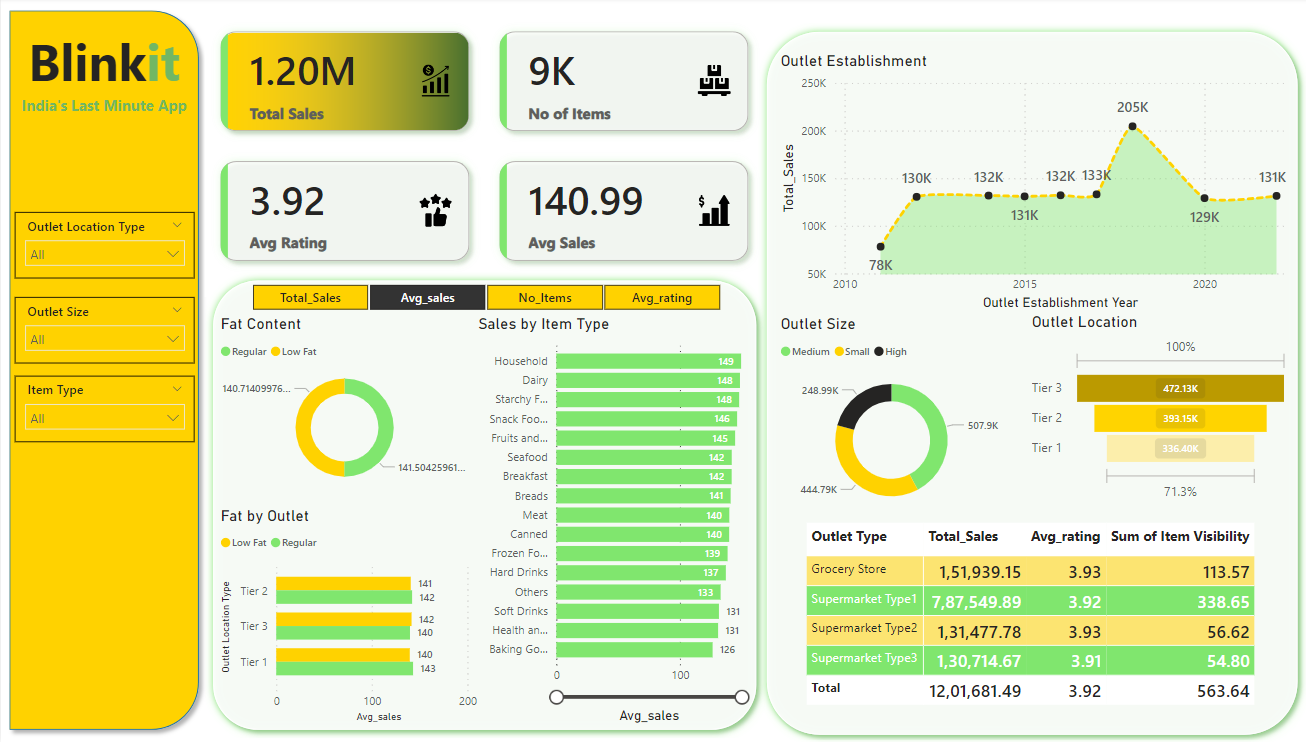

What the dashboard file says about the page in this screenshot:
{"tool":"powerbi","page":{"name":"Page 1","canvas":[1400,800],"ordinal":0},"visuals":[{"type":"shape","box":[0,5.4,221.2,789.5],"z":0},{"type":"textbox","box":[0,28.2,221.2,116.6],"z":1000},{"type":"cardVisual","fields":{"Data":["BlinkIT Grocery Data.Total_Sales","BlinkIT Grocery Data.No_Items","BlinkIT Grocery Data.Avg_rating","BlinkIT Grocery Data.Avg_sales"]},"box":[218.8,0,600.5,321.7],"z":2000},{"type":"shape","box":[218.8,294.9,600.5,500],"z":3000},{"type":"donutChart","title":"Fat Content","fields":{"Y":["BlinkIT Grocery Data.Avg_sales"],"Category":["BlinkIT Grocery Data.Item Fat Content"]},"box":[230.9,340.5,276.1,194.4],"z":4000},{"type":"slicer","fields":{"Values":["Metrics .Metrics "]},"box":[244.3,301.6,550.9,38.9],"z":5000},{"type":"clusteredBarChart","title":"Fat by Outlet","fields":{"Y":["BlinkIT Grocery Data.Avg_sales"],"Category":["BlinkIT Grocery Data.Outlet Location Type"],"Series":["BlinkIT Grocery Data.Item Fat Content"]},"box":[230.9,545.6,300.3,237.3],"z":6000},{"type":"barChart","title":"Sales by Item Type","fields":{"Y":["BlinkIT Grocery Data.Avg_sales"],"Category":["BlinkIT Grocery Data.Item Type"]},"box":[507,340.5,303,442.4],"z":7000},{"type":"shape","box":[812.3,28.2,587.1,772.1],"z":8000},{"type":"lineChart","title":"Outlet Establishment","fields":{"Category":["BlinkIT Grocery Data.Outlet Establishment Year"],"Y":["BlinkIT Grocery Data.Total_Sales"]},"box":[831.1,57.6,555,282.8],"z":9000},{"type":"pieChart","title":"Outlet Size","fields":{"Category":["BlinkIT Grocery Data.Outlet Size"],"Y":["BlinkIT Grocery Data.Total_Sales"]},"box":[831.1,340.5,248,221.2],"z":10000},{"type":"funnel","title":"Outlet Location","fields":{"Y":["Sum(BlinkIT Grocery Data.Sales)"],"Category":["BlinkIT Grocery Data.Outlet Location Type"]},"box":[1100.5,337.8,285.5,207.8],"z":11000},{"type":"pivotTable","fields":{"Rows":["BlinkIT Grocery Data.Outlet Type"],"Values":["BlinkIT Grocery Data.Total_Sales","BlinkIT Grocery Data.Avg_rating","Sum(BlinkIT Grocery Data.Item Visibility)"]},"box":[859.3,559,497.3,207.8],"z":12000},{"type":"slicer","fields":{"Values":["BlinkIT Grocery Data.Outlet Location Type"]},"box":[14.7,230.6,193,71],"z":13000},{"type":"slicer","fields":{"Values":["BlinkIT Grocery Data.Outlet Size"]},"box":[14.7,321.7,193,71],"z":14000},{"type":"slicer","fields":{"Values":["BlinkIT Grocery Data.Item Type"]},"box":[14.7,406.2,193,71],"z":15000}]}

Visuals, with their boxes in screenshot pixels (x1, y1, x2, y2), scaled from the page's 1400x800 canvas onto the 1306x742 screenshot:
shape: 0:5:206:737
textbox: 0:26:206:134
cardVisual - BlinkIT Grocery Data.Total_Sales x BlinkIT Grocery Data.No_Items: 204:0:764:298
shape: 204:274:764:737
"Fat Content" donutChart: 215:316:473:496
slicer - Metrics .Metrics : 228:280:742:316
"Fat by Outlet" clusteredBarChart: 215:506:496:726
"Sales by Item Type" barChart: 473:316:756:726
shape: 758:26:1305:741
"Outlet Establishment" lineChart: 775:53:1293:316
"Outlet Size" pieChart: 775:316:1007:521
"Outlet Location" funnel: 1027:313:1293:506
pivotTable - BlinkIT Grocery Data.Outlet Type x BlinkIT Grocery Data.Total_Sales: 802:518:1266:711
slicer - BlinkIT Grocery Data.Outlet Location Type: 14:214:194:280
slicer - BlinkIT Grocery Data.Outlet Size: 14:298:194:364
slicer - BlinkIT Grocery Data.Item Type: 14:377:194:443
